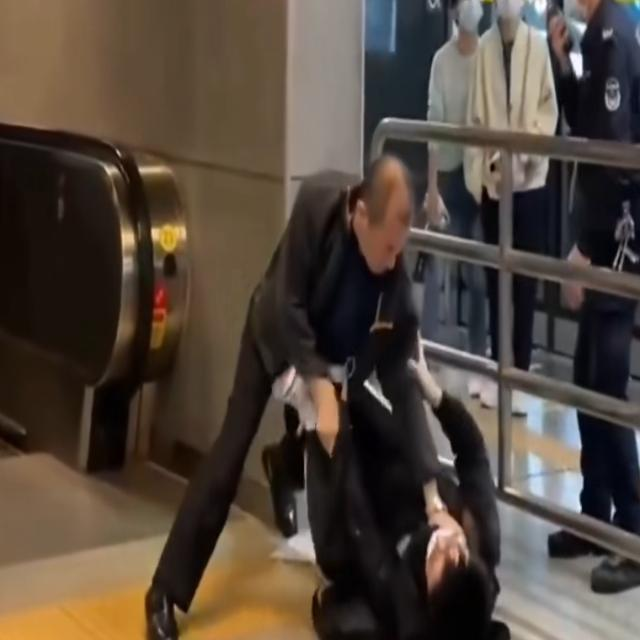nofight: (232, 153, 508, 623), (539, 0, 640, 606), (472, 0, 548, 424)
